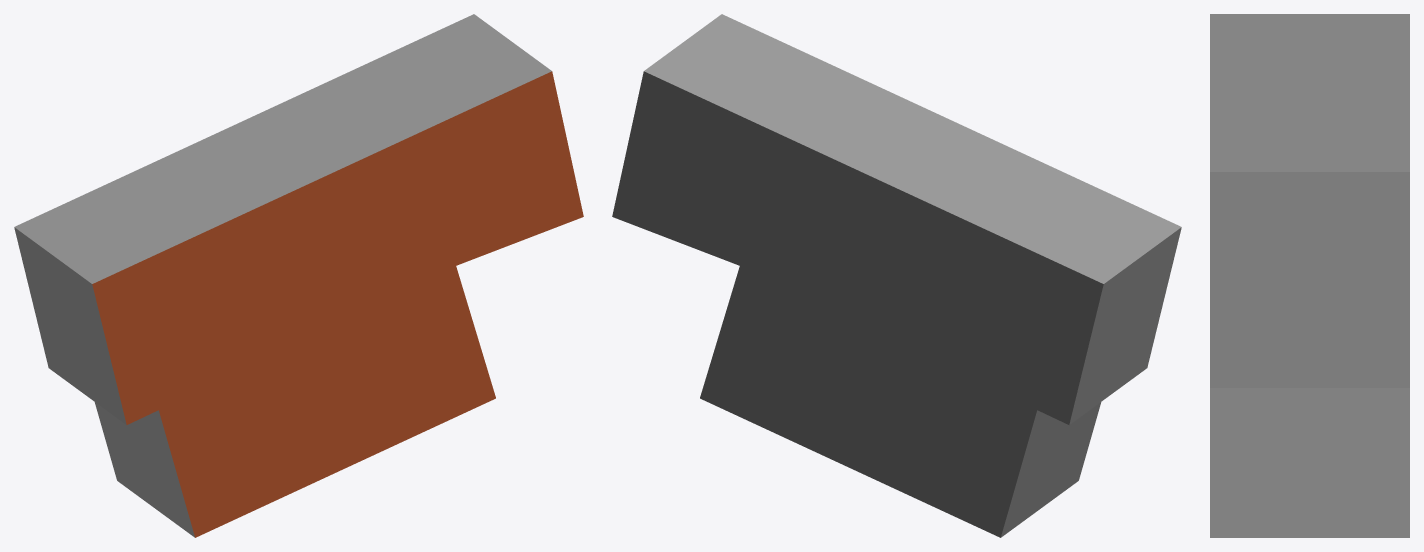
File: construction_1022_assumed_A_Casa_h6m.obj
The picture shows the model from 3 angles, left to right: view 1: azimuth 30°, elevation 25°; view 2: azimuth 150°, elevation 25°; view 3: azimuth 270°, elevation 25°; orthographic projection. The views are drawn at different scales.
Visible parts, largest first — view 1: construction_1022_assumed_A_Casa; view 2: construction_1022_assumed_A_Casa; view 3: construction_1022_assumed_A_Casa.
Boxes of the visible parts, bbox=[...] form: construction_1022_assumed_A_Casa: bbox=[14, 14, 583, 537]; construction_1022_assumed_A_Casa: bbox=[612, 14, 1181, 537]; construction_1022_assumed_A_Casa: bbox=[1210, 14, 1409, 537].
Bounding box in the file's own units: 21.8 × 16.09 × 6.
